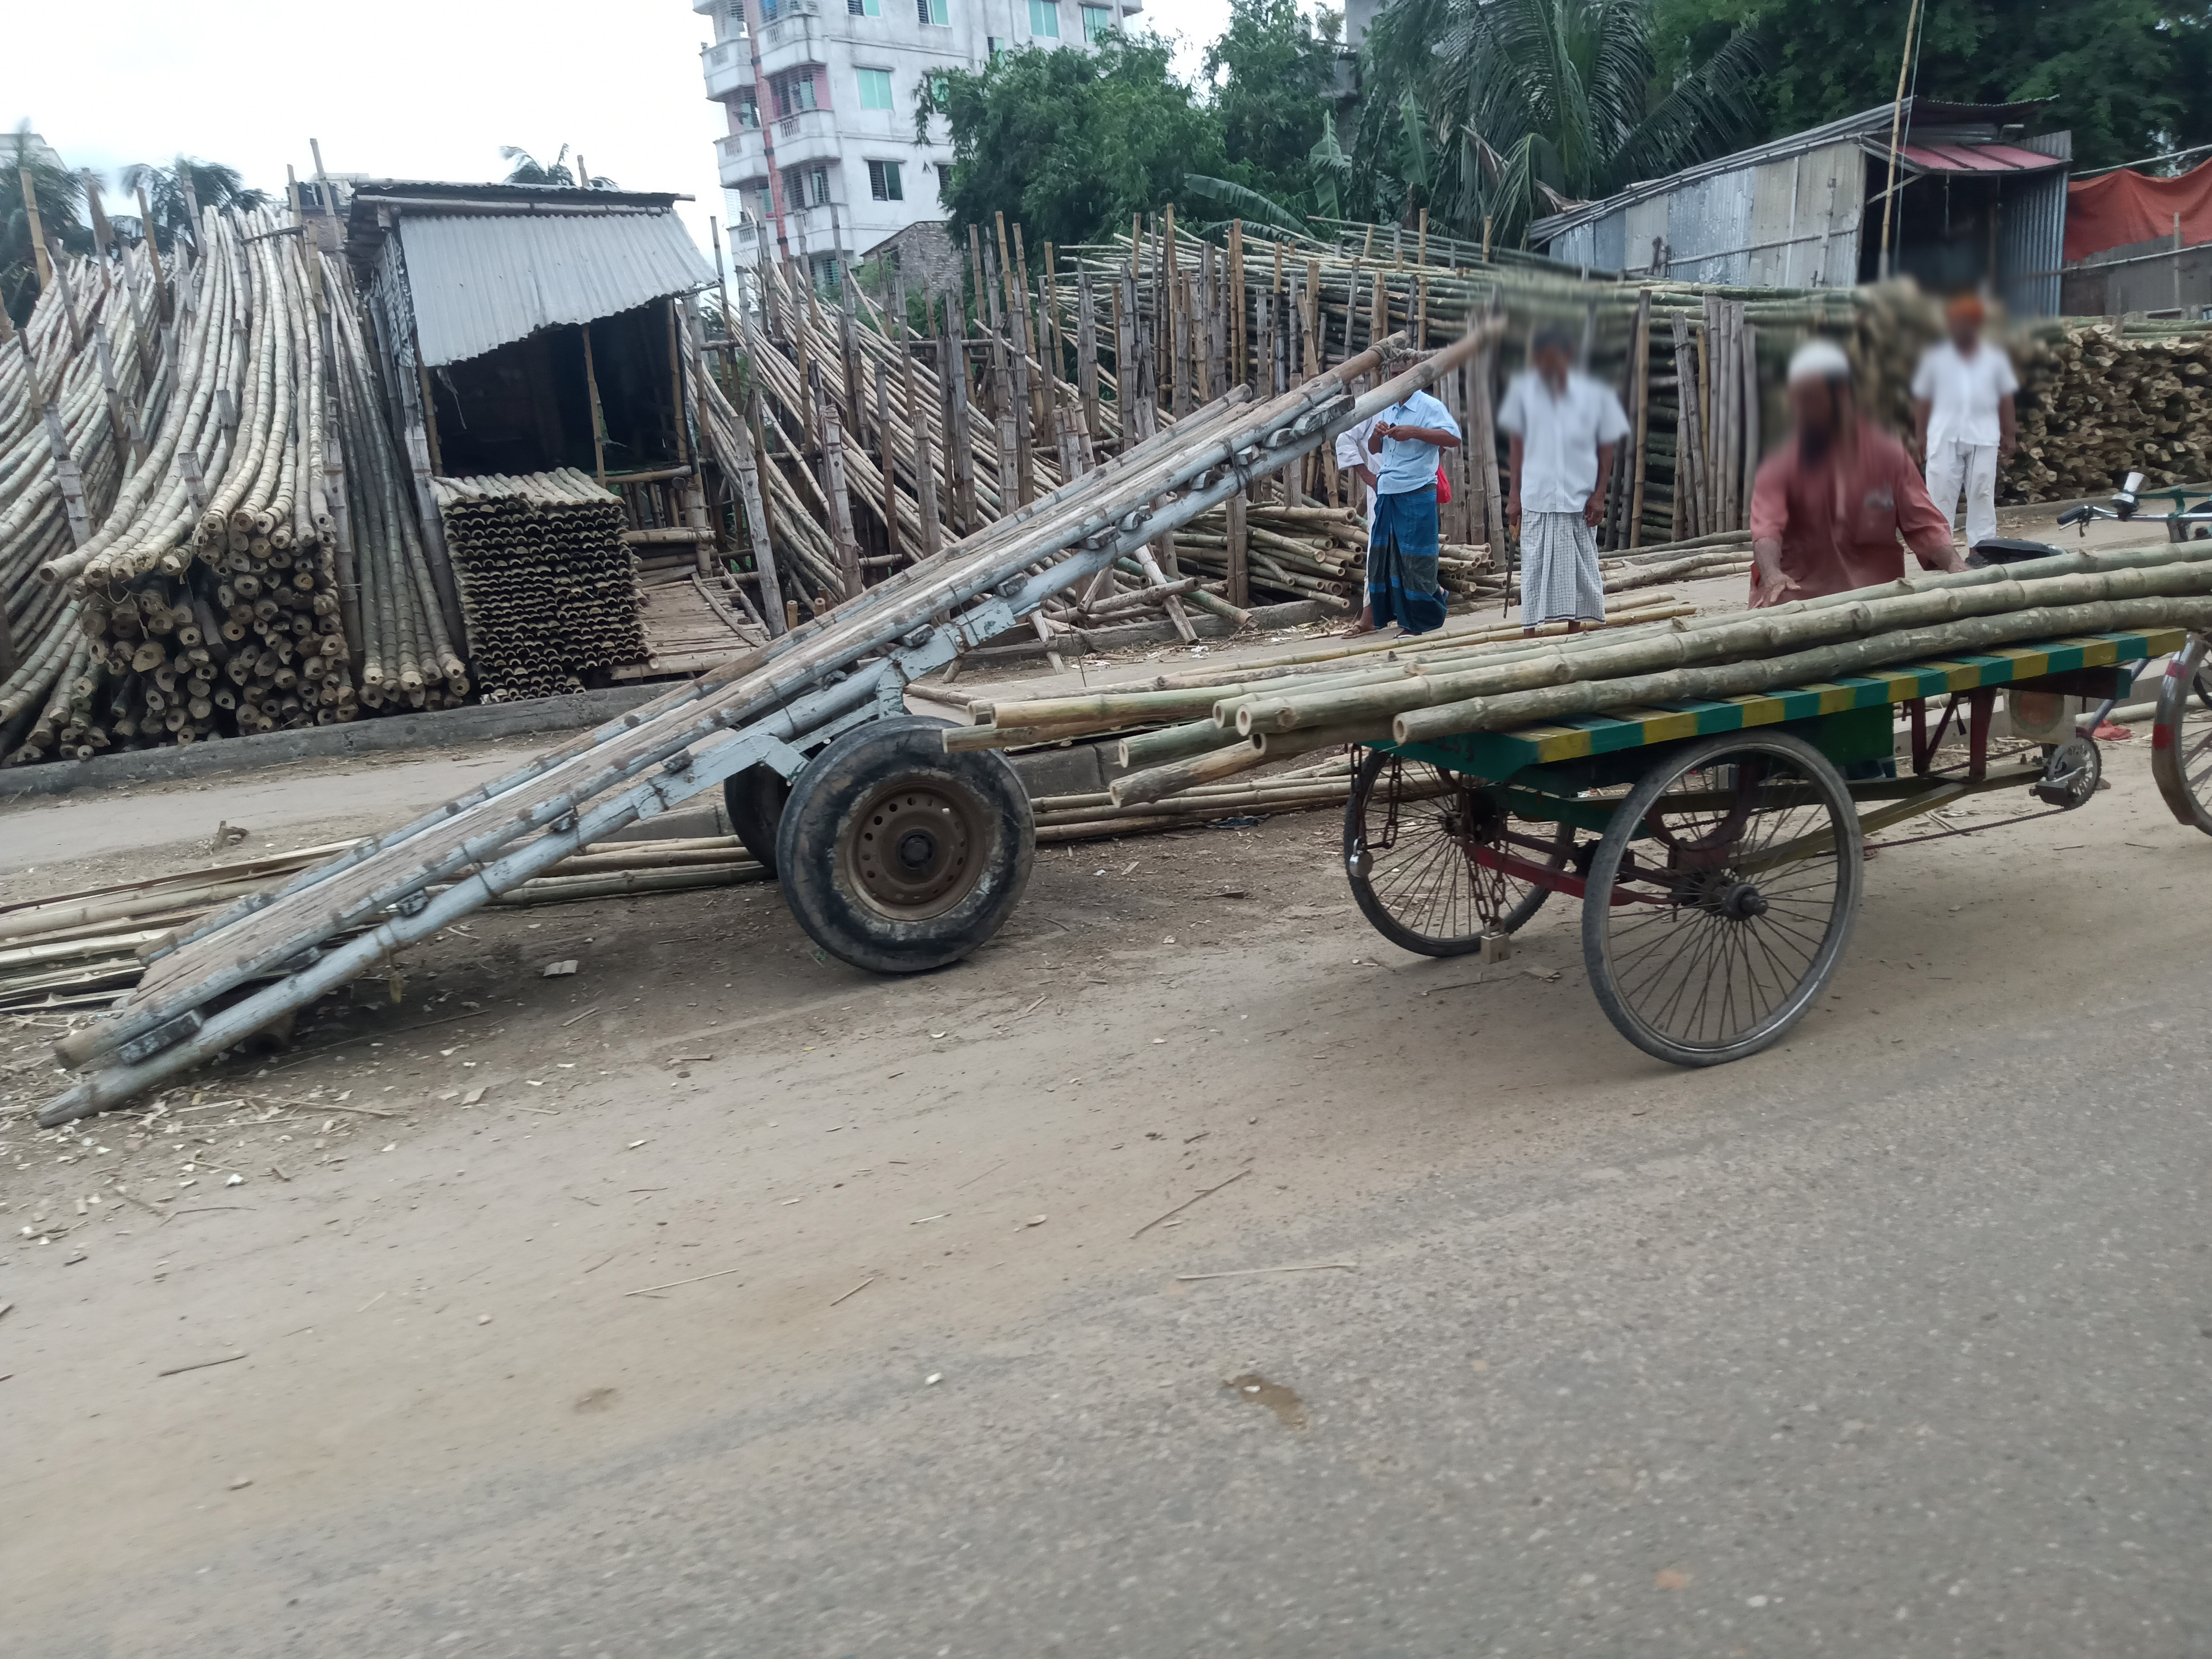van: (1353, 504, 2212, 1096)
wheelbarrow: (54, 267, 1524, 1232)
